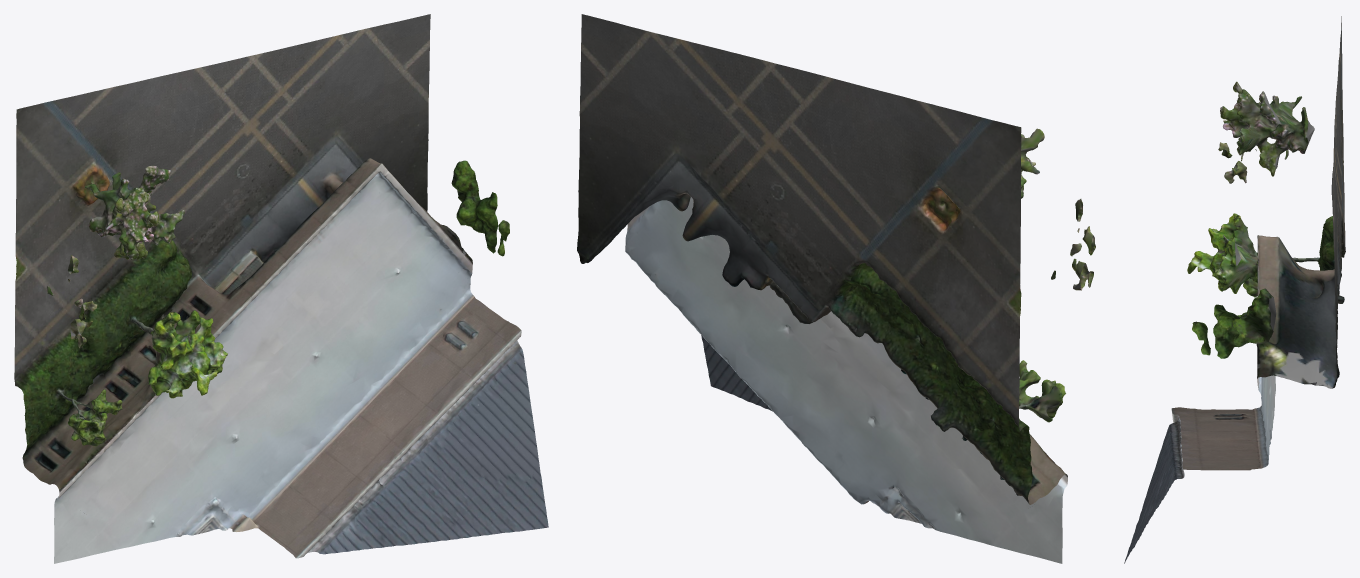
File: Tile_+010_+015.fbx
The picture shows the model from 3 angles, left to right: view 1: azimuth 30°, elevation 25°; view 2: azimuth 150°, elevation 25°; view 3: azimuth 270°, elevation 25°; orthographic projection. The views are drawn at different scales.
Visible parts, largest first — view 1: DefaultName; view 2: DefaultName; view 3: DefaultName.
Boxes of the visible parts, x1,y1,x2,y2 form: DefaultName: (14,14,548,563); DefaultName: (577,14,1095,563); DefaultName: (1124,16,1345,563).
Size of the model in its own units: 22.54 by 22.54 by 12.08.
